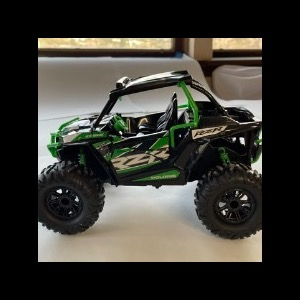polaris: (40, 70, 262, 241)
